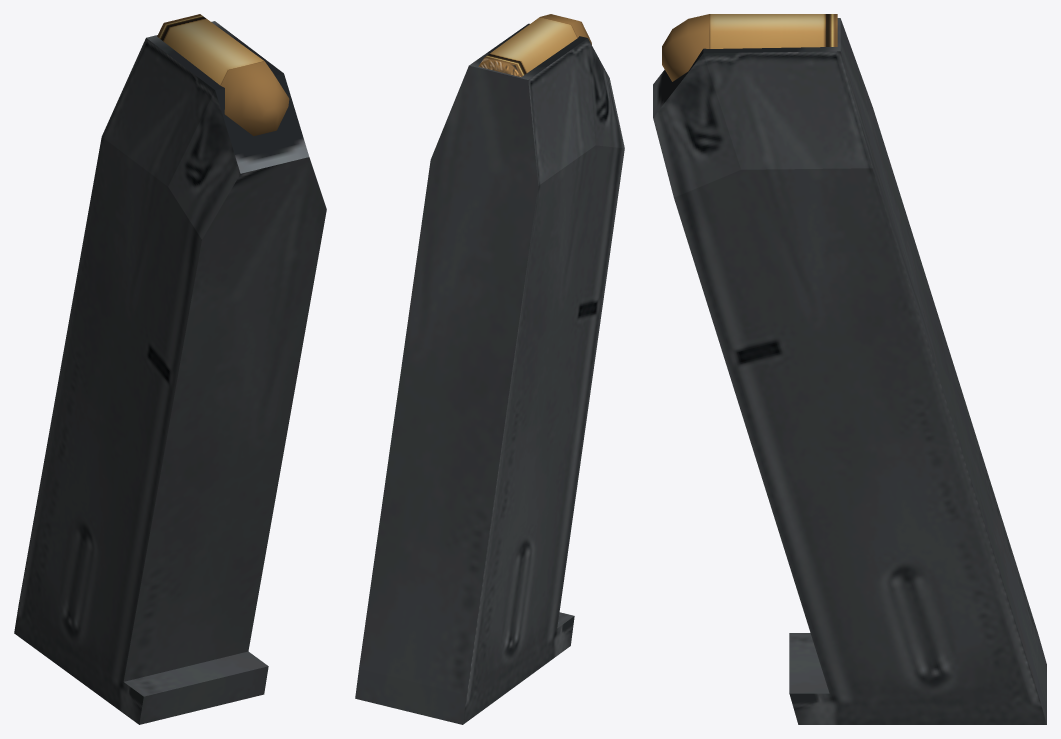
The model's file is beretta_m9_mag.glb.
3 views of the same model, side by side, from view 1: azimuth 30°, elevation 25°; view 2: azimuth 150°, elevation 25°; view 3: azimuth 270°, elevation 25° (orthographic). The views are drawn at different scales.
Visible parts, largest first — view 1: Magazine, Bullet; view 2: Magazine, Bullet; view 3: Magazine, Bullet.
Boxes of the visible parts, x1,y1,x2,y2 form: Magazine: (14,21,326,724); Bullet: (157,14,289,136); Magazine: (355,23,624,724); Bullet: (478,14,591,76); Magazine: (653,18,1046,724); Bullet: (662,14,837,81).
Bounding box in the file's own units: 0.0183 × 0.0948 × 0.0504.
2 materials, 2 textured.
